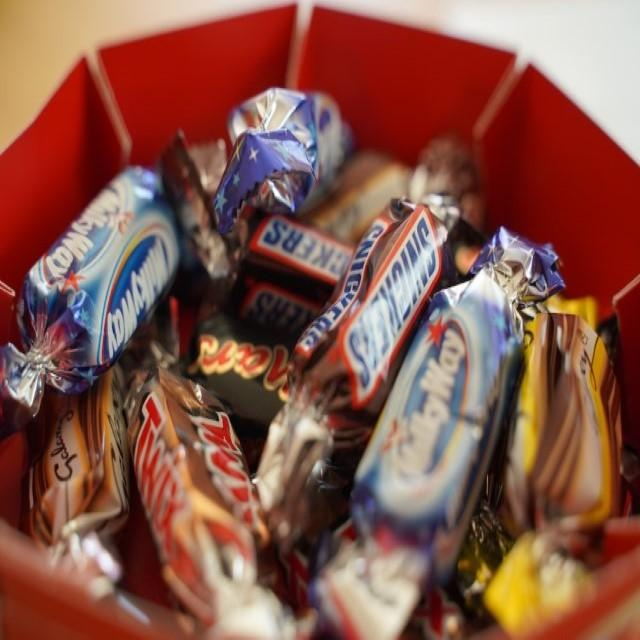snickers_chocolate: (322, 207, 455, 385)
